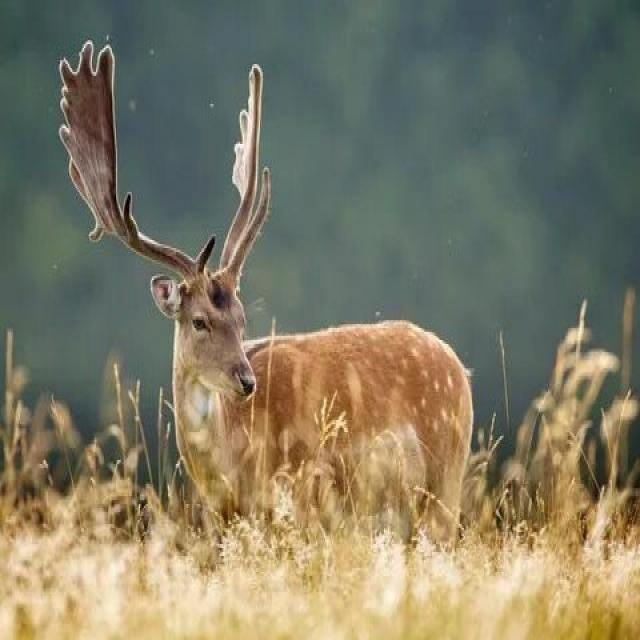deer: (63, 45, 500, 558)
